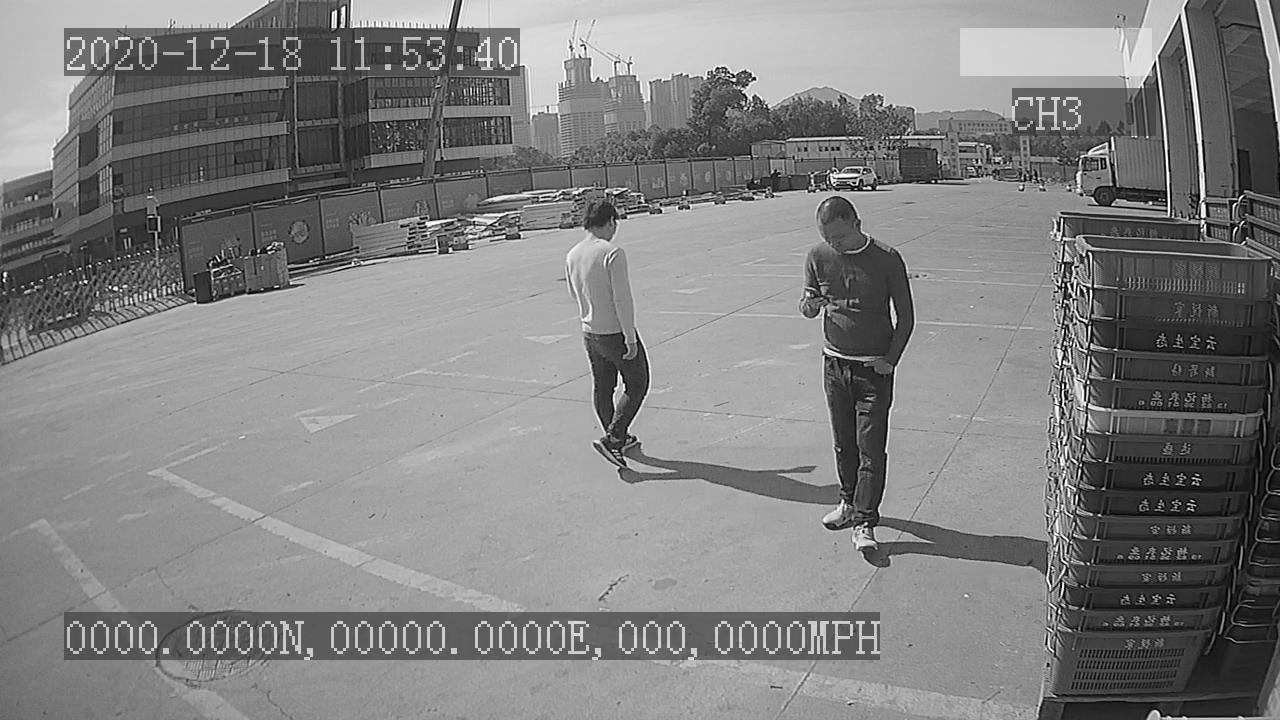person: (790, 192, 926, 561), (558, 195, 656, 479)
